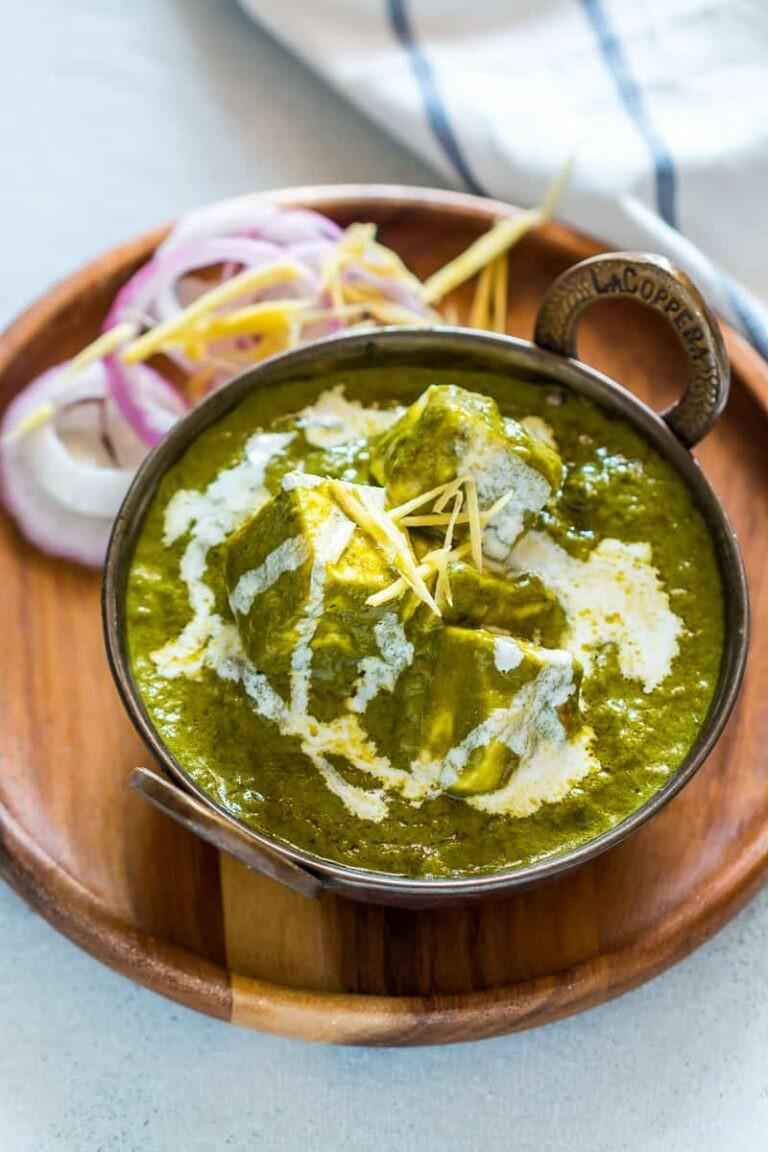PalakPaneer: (118, 363, 730, 873)
